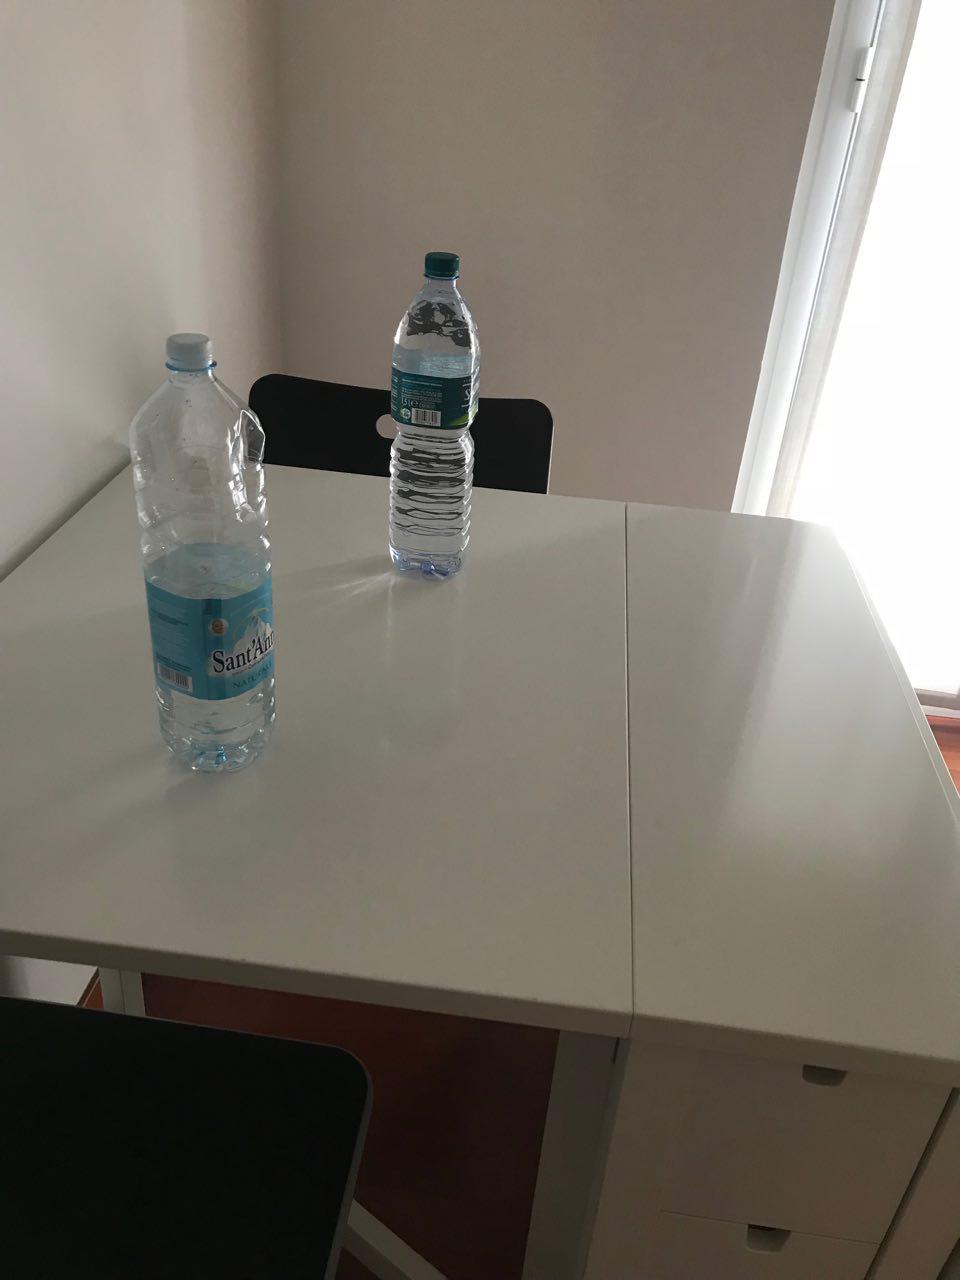san_bernardo: (387, 251, 481, 582)
